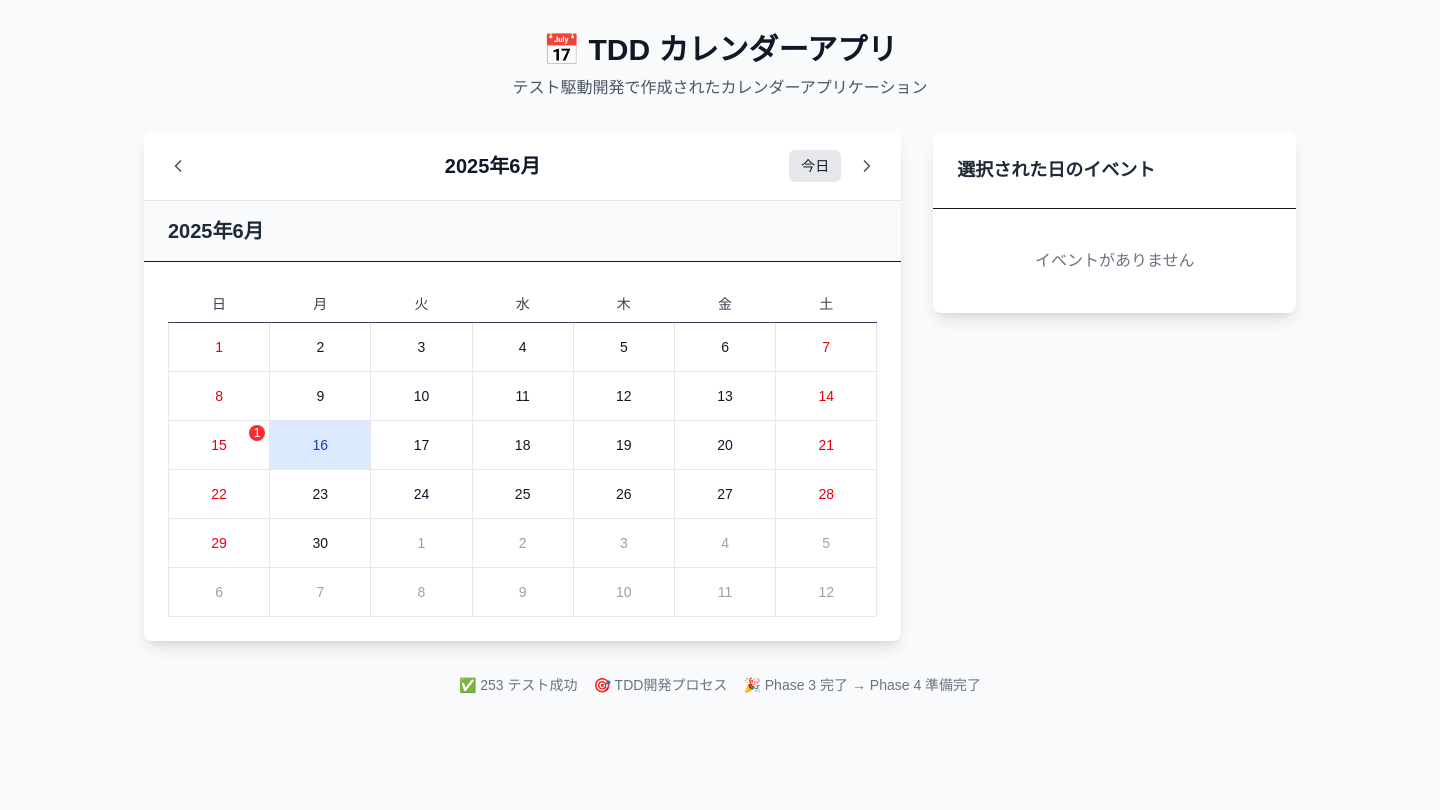
Test case: MainPage統合テスト › 月移動時にイベントが正しく表示される
次月ボタンをクリック（7月に移動）
Click the button named "次月": (867, 166) top-left (849, 148), bottom-right (885, 184)
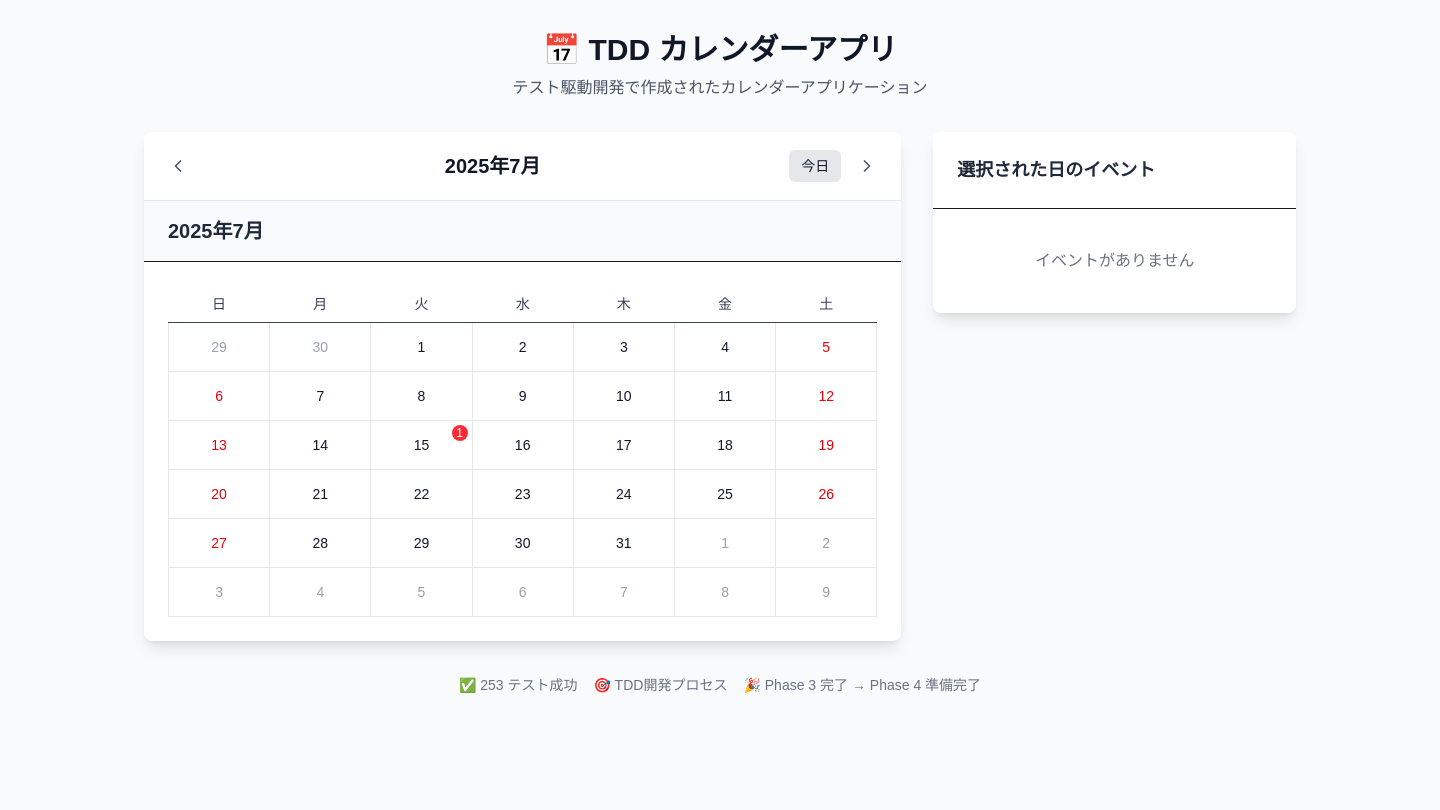
7月15日を選択
Click the button "15 1": (422, 445) top-left (371, 421), bottom-right (472, 469)
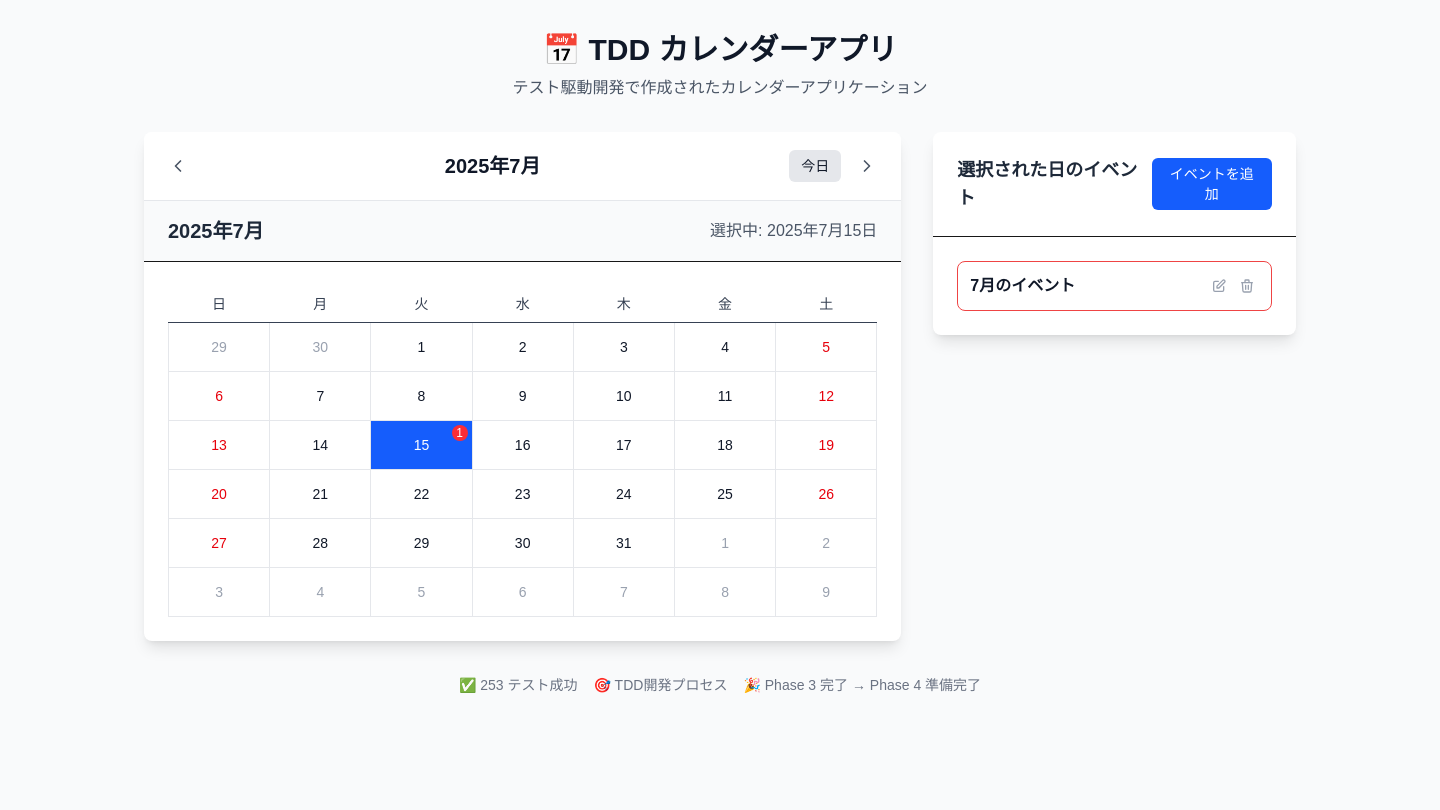
Expected: the heading "7月のイベント" is shown, top-left (970, 277), bottom-right (1075, 294)
